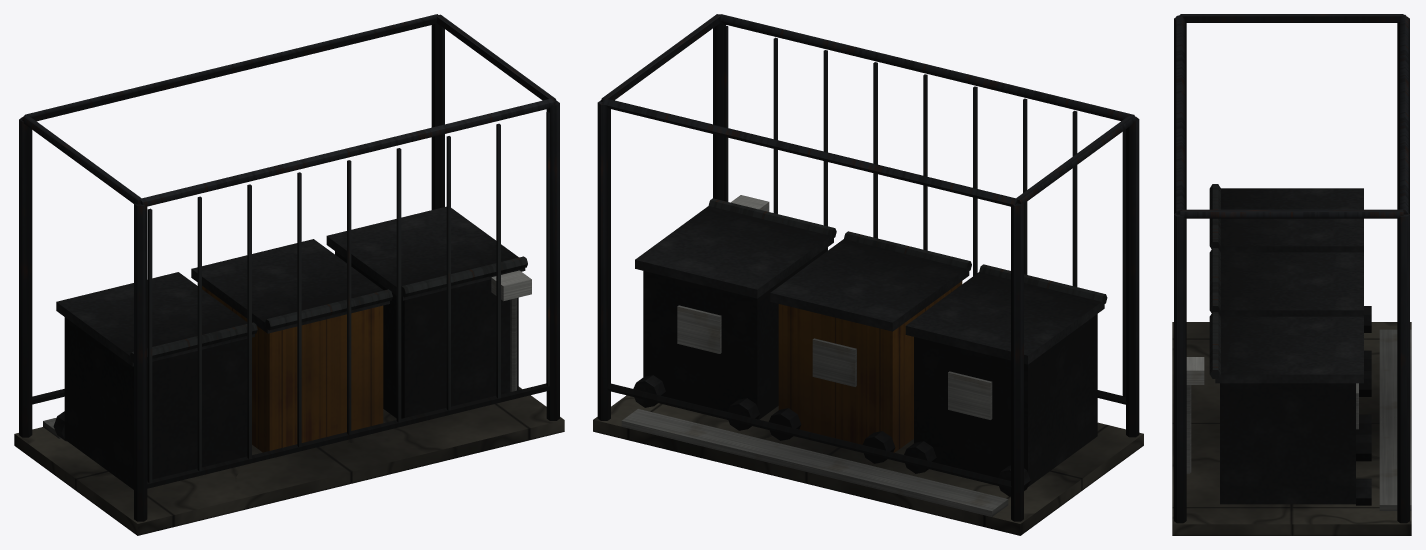
The model's file is refuse_station.glb.
3 views of the same model, side by side, from view 1: azimuth 30°, elevation 25°; view 2: azimuth 150°, elevation 25°; view 3: azimuth 270°, elevation 25° (orthographic). The views are drawn at different scales.
Visible parts, largest first — view 1: refuse_station; view 2: refuse_station; view 3: refuse_station.
Boxes of the visible parts, bbox=[...] form: refuse_station: bbox=[14, 14, 564, 535]; refuse_station: bbox=[593, 14, 1143, 535]; refuse_station: bbox=[1172, 14, 1411, 535].
Bounding box in the file's own units: 3 × 2.23 × 1.5.
